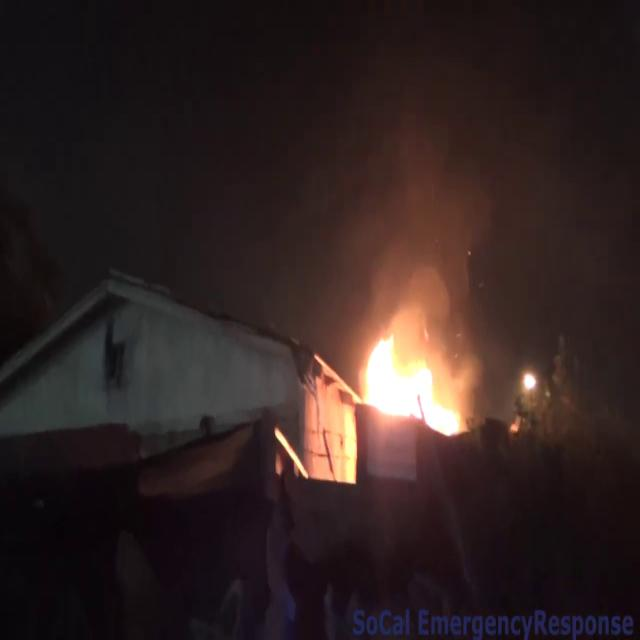Fire: (353, 324, 469, 439)
Smoke: (322, 18, 489, 309)
